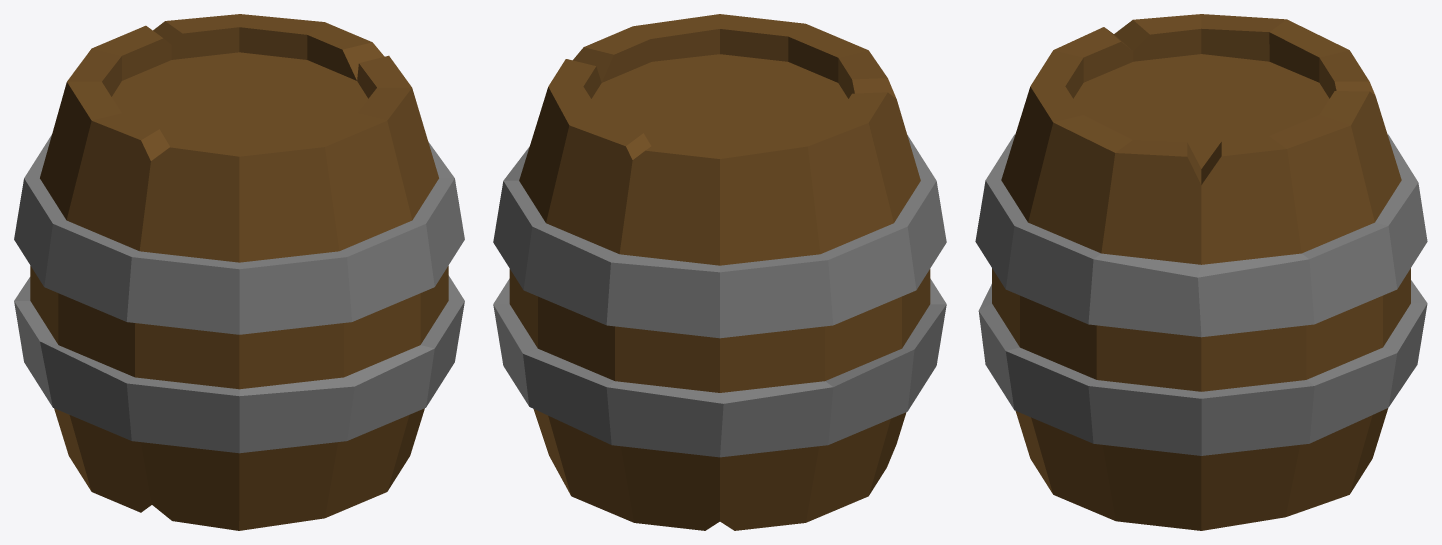
The model's file is Barrel_Blender.fbx.
3 renders of one model, left to right at view 1: azimuth 30°, elevation 25°; view 2: azimuth 150°, elevation 25°; view 3: azimuth 270°, elevation 25°, orthographic.
Parts seen in each view (by area): view 1: barrel.014; view 2: barrel.014; view 3: barrel.014.
Part boxes in pixels (x1,y1,x2,y2): barrel.014: (14,14,464,530); barrel.014: (493,14,946,530); barrel.014: (975,14,1427,530).
Size of the model in its own units: 132 by 122 by 132.
